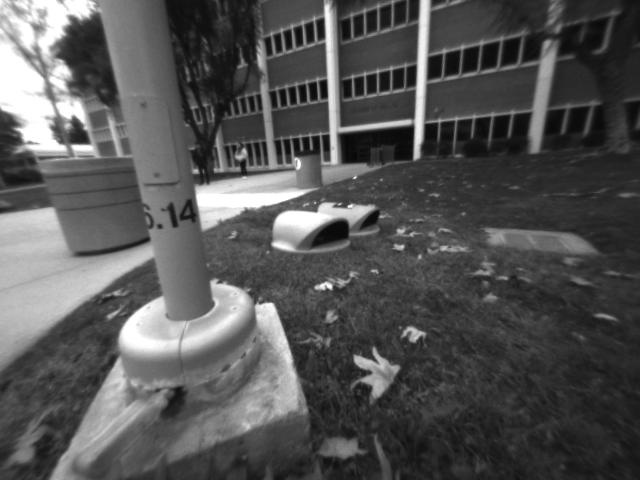trashcan: (36, 157, 159, 255), (292, 150, 329, 192)
